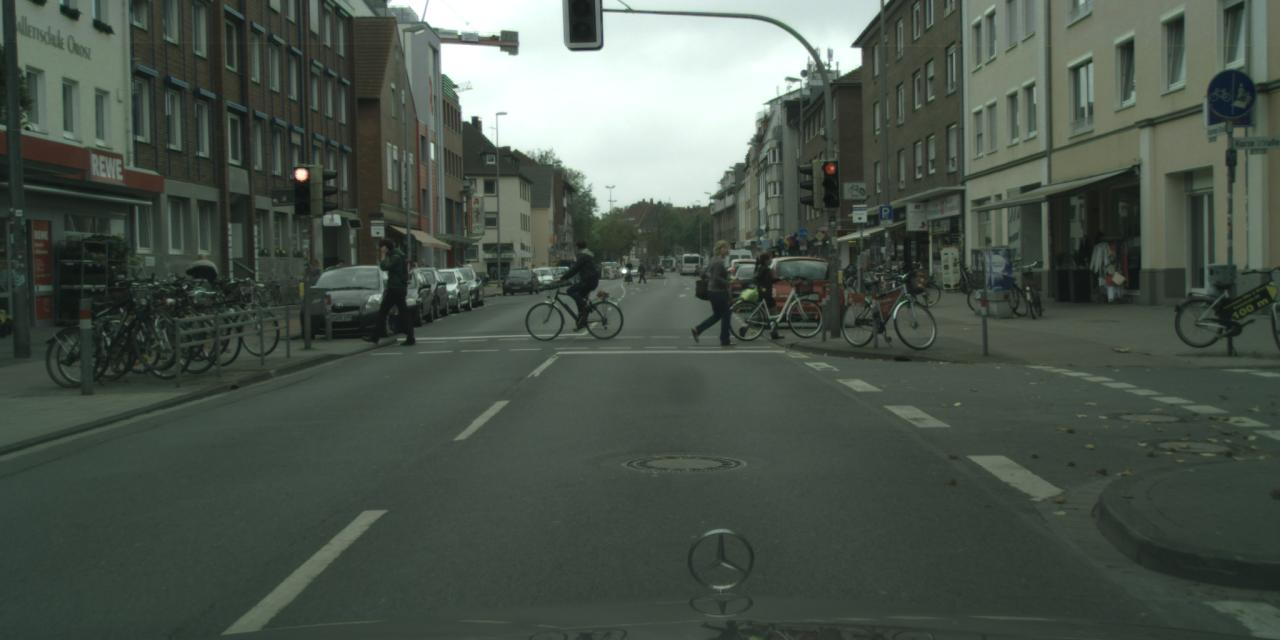ped: (366, 238, 409, 342), (694, 239, 736, 341), (563, 240, 598, 326), (744, 252, 778, 336), (188, 252, 216, 322), (306, 258, 324, 303), (330, 260, 345, 296), (417, 258, 430, 292), (409, 262, 420, 291), (462, 259, 472, 287), (636, 258, 646, 283), (528, 264, 536, 281)
